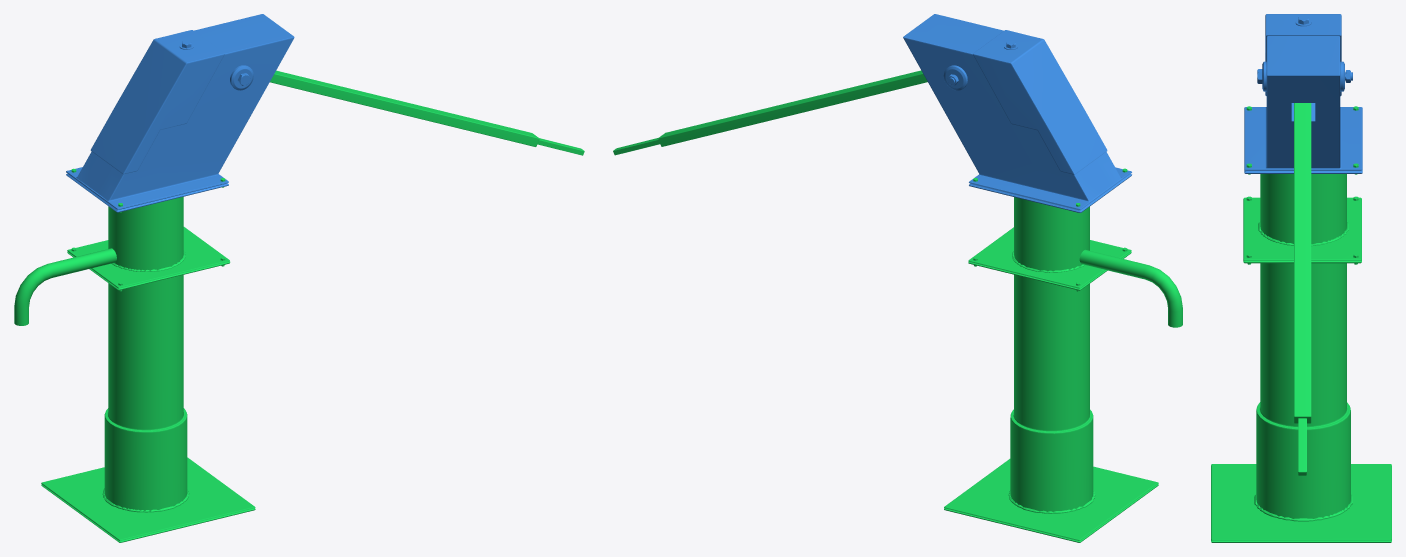
The model's file is lowpoly.fbx.
3 renders of one model, left to right at view 1: azimuth 30°, elevation 25°; view 2: azimuth 150°, elevation 25°; view 3: azimuth 270°, elevation 25°, orthographic. The views are drawn at different scales.
Visible parts, largest first — view 1: HandPump_low; view 2: HandPump_low; view 3: HandPump_low.
Part boxes in pixels (box(x1,y1,x2,y2)): HandPump_low: box(14, 14, 584, 542); HandPump_low: box(613, 14, 1182, 542); HandPump_low: box(1211, 14, 1391, 542).
Size of the model in its own units: 49.74 by 37.5 by 12.01.
